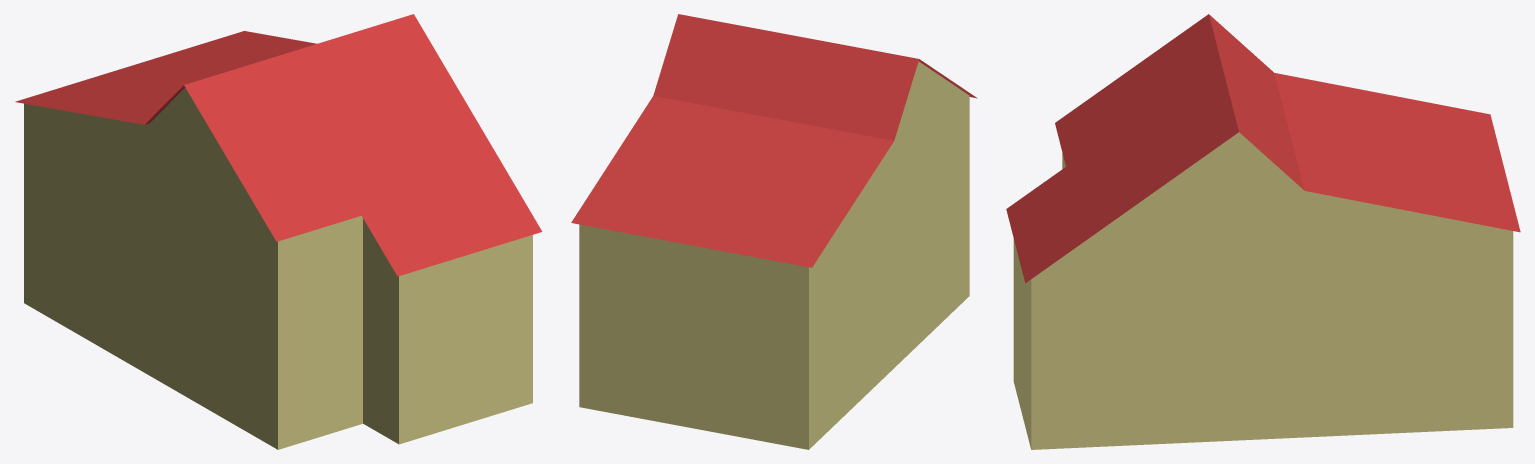
3 views of the same model, side by side, from view 1: azimuth 30°, elevation 25°; view 2: azimuth 150°, elevation 25°; view 3: azimuth 270°, elevation 25° (orthographic). The views are drawn at different scales.
Bounding box in the file's own units: 12.47 × 19.26 × 12.86.
